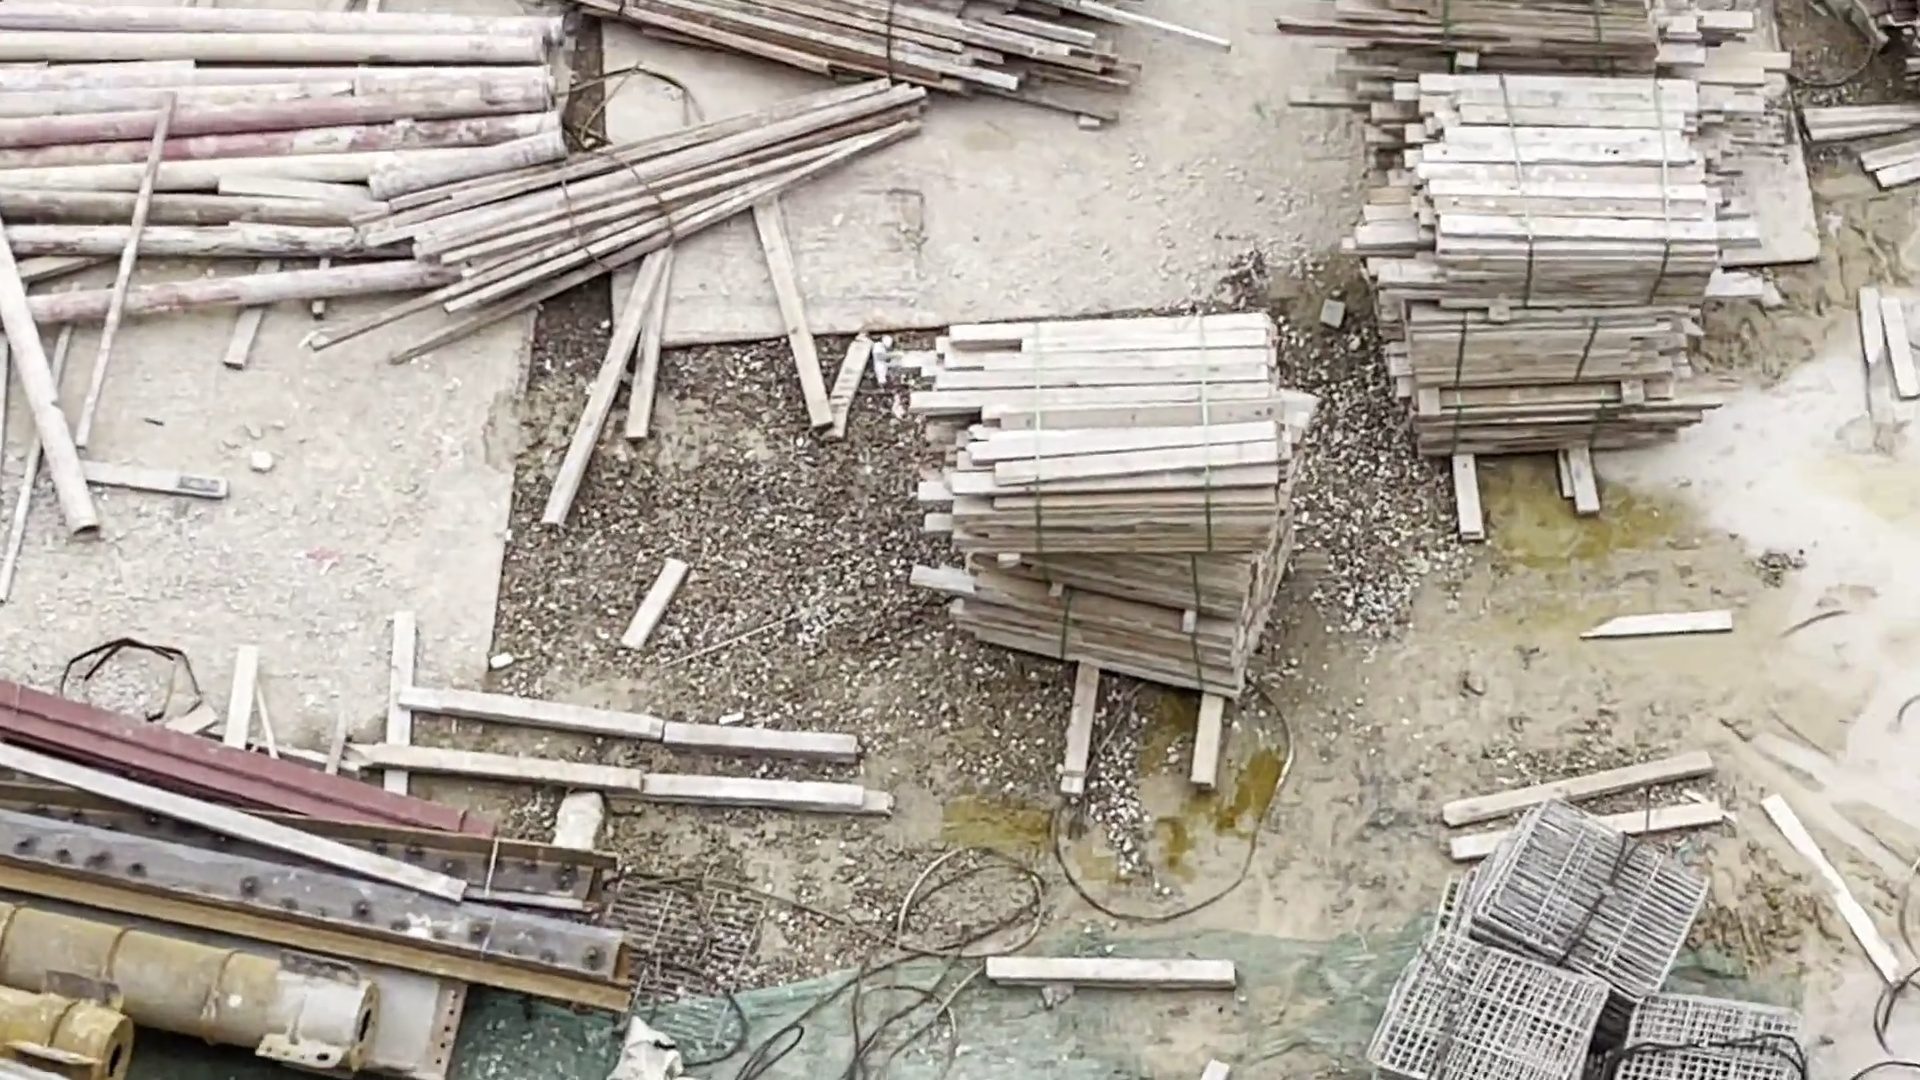wood: (1367, 11, 1731, 465), (934, 320, 1269, 696)
